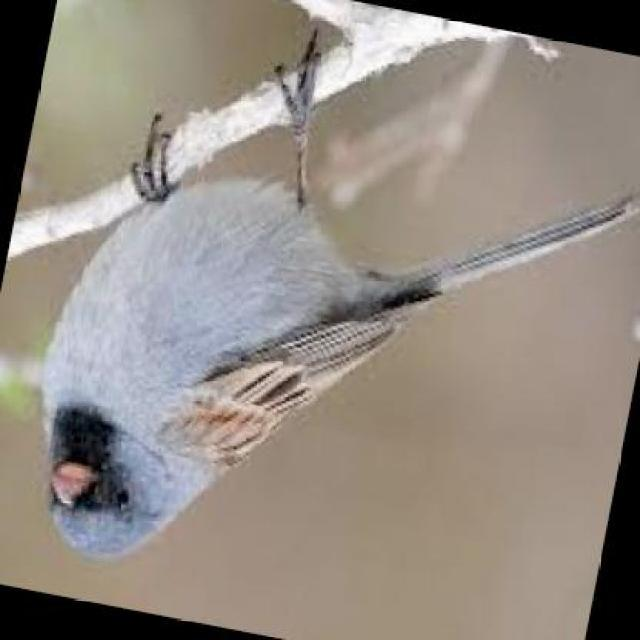Bird: (52, 27, 640, 548)
